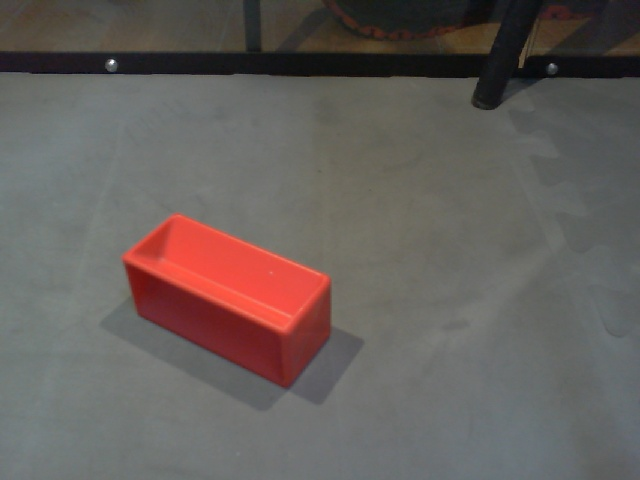RedSample: (122, 210, 333, 391)
